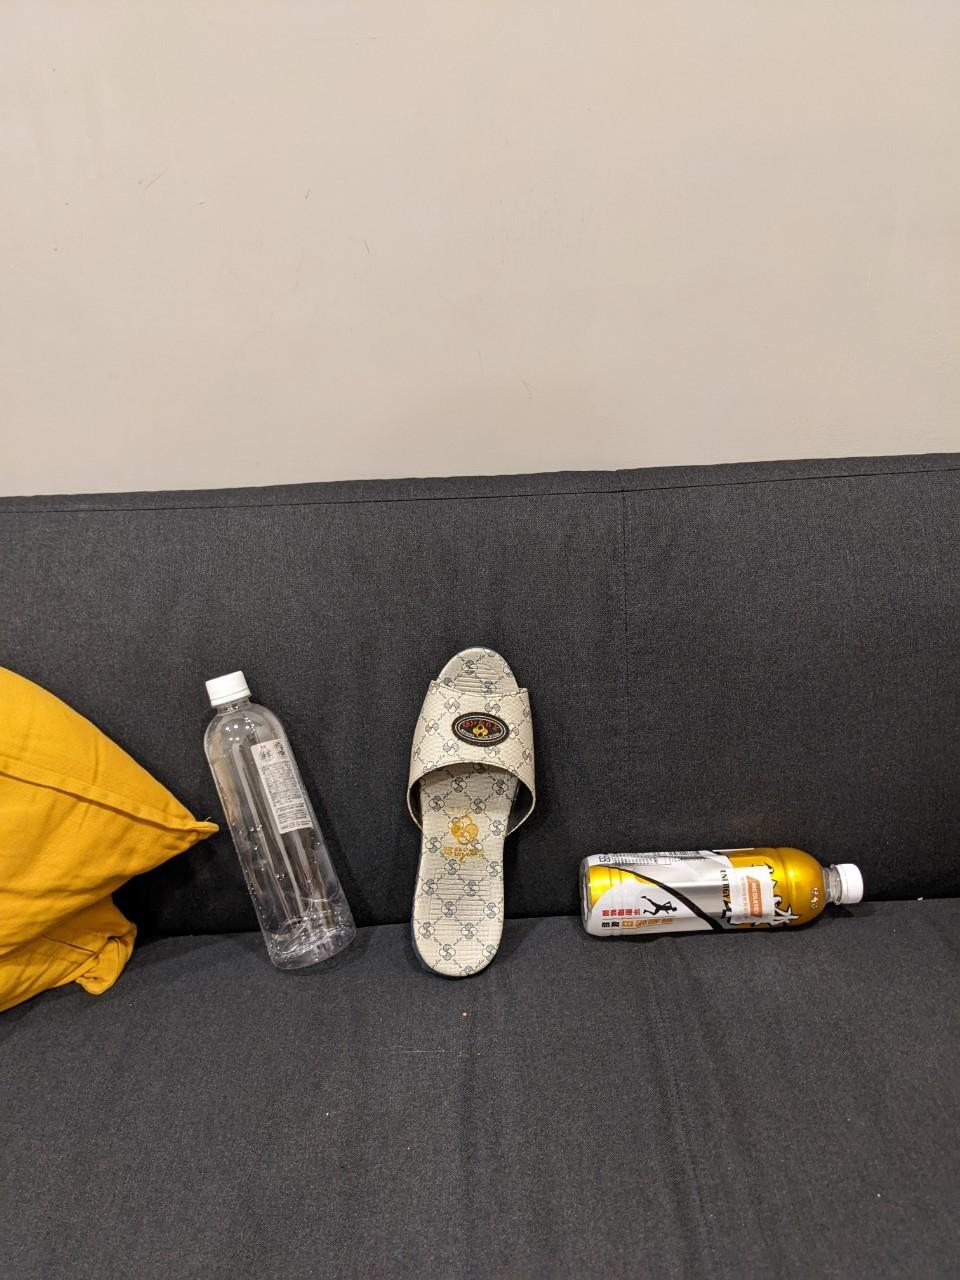BIODEGRADABLE: (190, 667, 362, 954), (585, 843, 872, 931)
